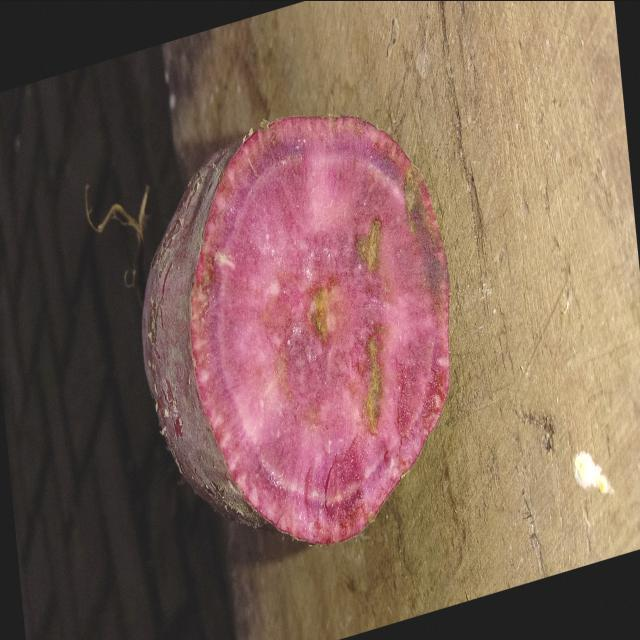Sick Sweet Potato_Tuber Rot: (191, 116, 449, 542)
